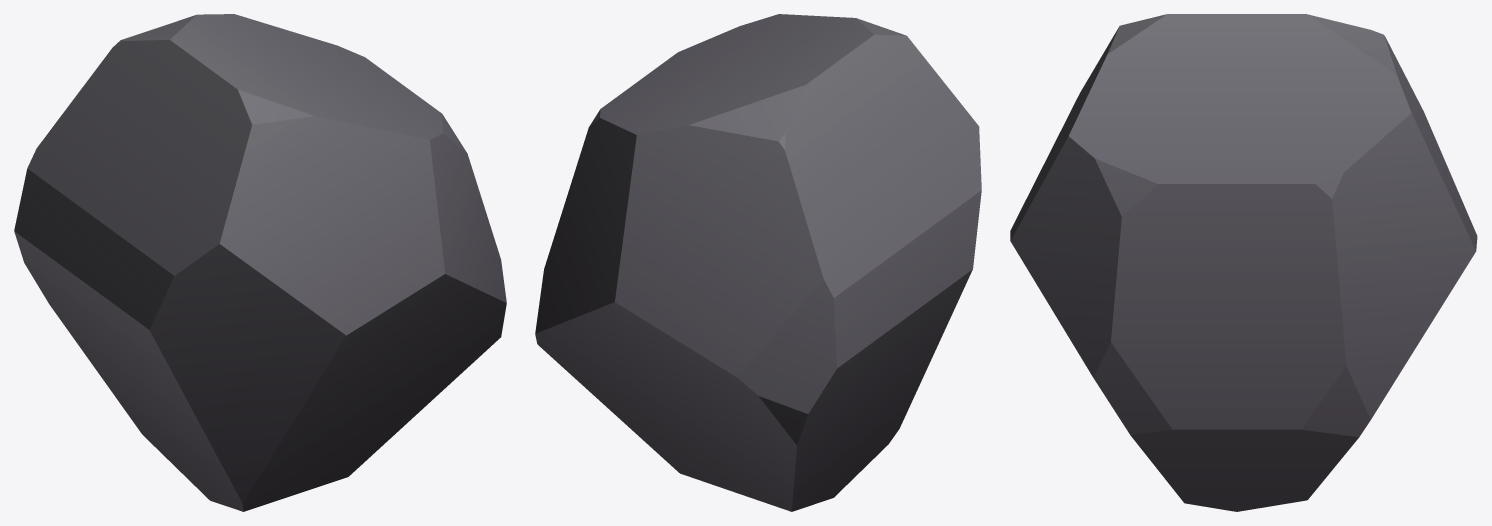
Rendered from Rock_02.fbx.
The picture shows the model from 3 angles, left to right: view 1: azimuth 30°, elevation 25°; view 2: azimuth 150°, elevation 25°; view 3: azimuth 270°, elevation 25°; orthographic projection.
Visible parts, largest first — view 1: Rock_02; view 2: Rock_02; view 3: Rock_02.
Part boxes in pixels (x1,y1,x2,y2): Rock_02: [14, 14, 506, 511]; Rock_02: [535, 14, 981, 511]; Rock_02: [1010, 14, 1477, 511].
Bounding box in the file's own units: 97.08 × 117 × 111.
